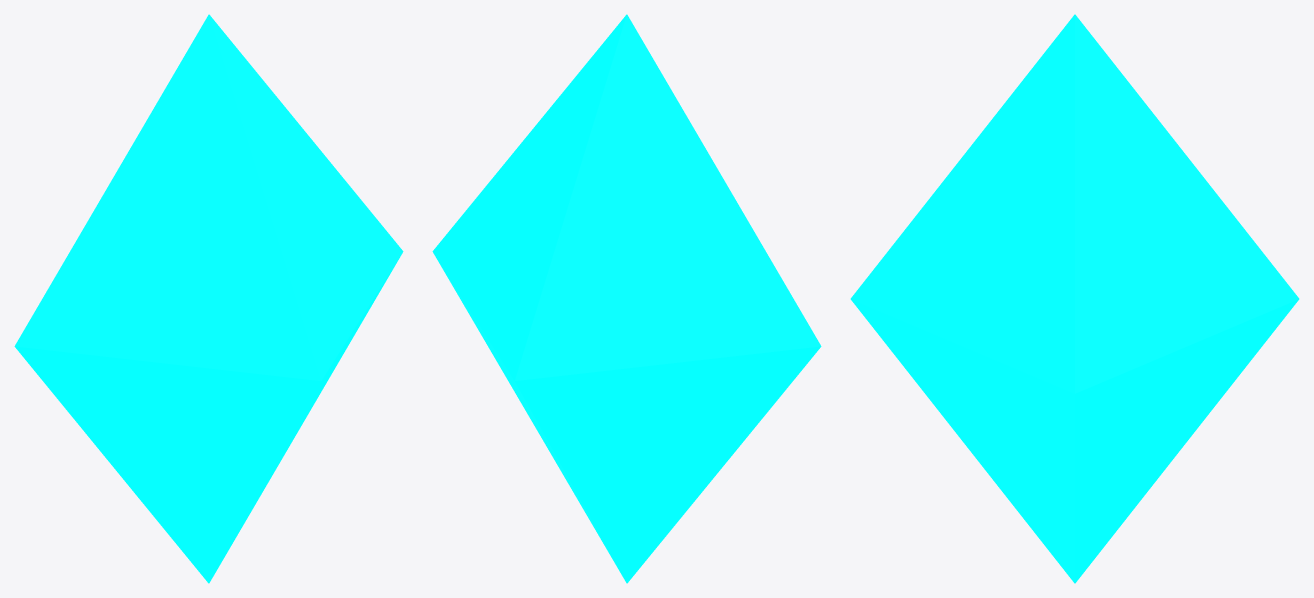
The model's file is synapse.glb.
3 renders of one model, left to right at view 1: azimuth 30°, elevation 25°; view 2: azimuth 150°, elevation 25°; view 3: azimuth 270°, elevation 25°, orthographic.
Visible parts, largest first — view 1: SynapseNeuralCore; view 2: SynapseNeuralCore; view 3: SynapseNeuralCore.
Boxes of the visible parts, left/top/right/bottom form: SynapseNeuralCore: left=14, top=14, right=403, bottom=583; SynapseNeuralCore: left=432, top=14, right=821, bottom=583; SynapseNeuralCore: left=850, top=14, right=1299, bottom=583.
Size of the model in its own units: 2 by 2.8 by 2.
